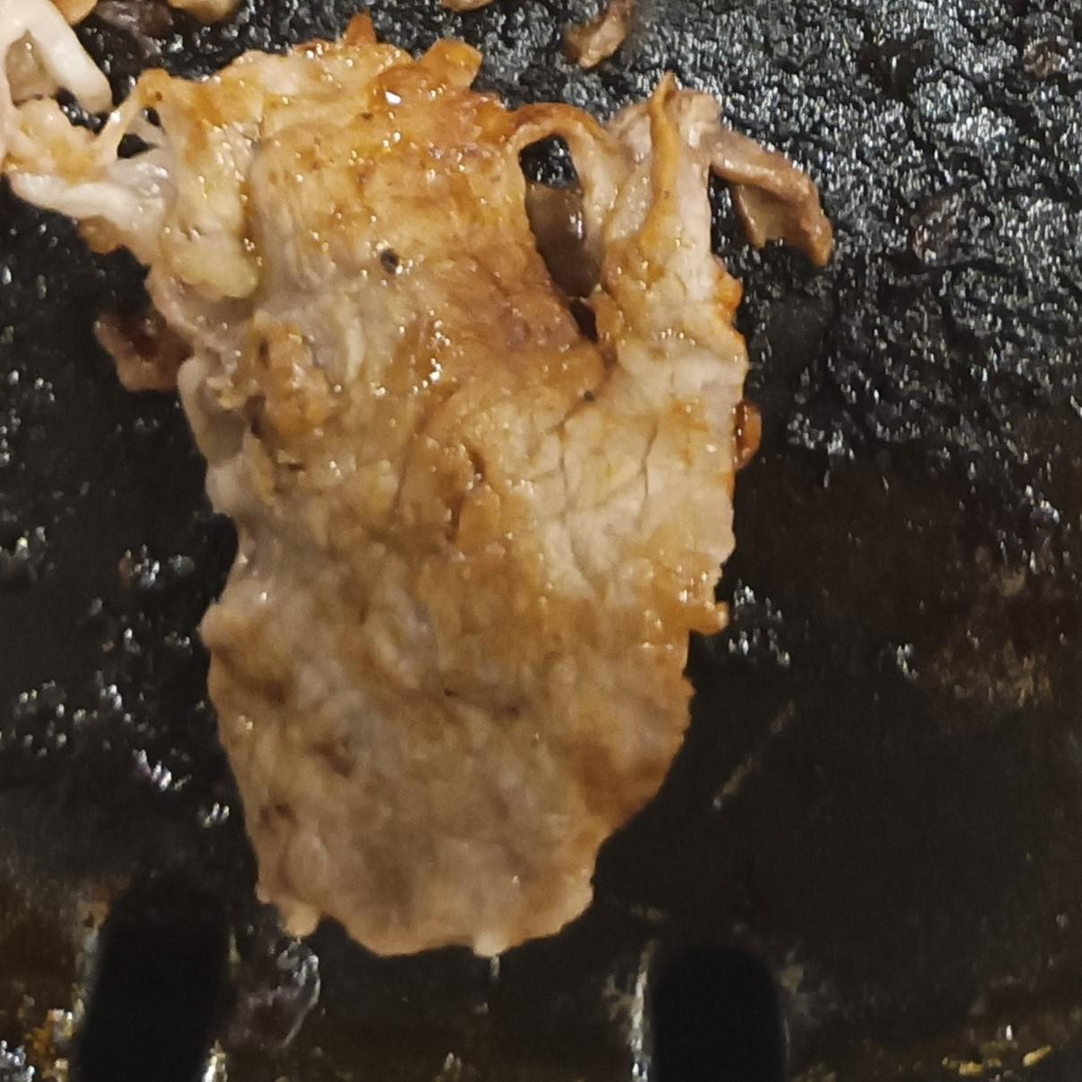Well-Cooked: (1, 13, 839, 963)
